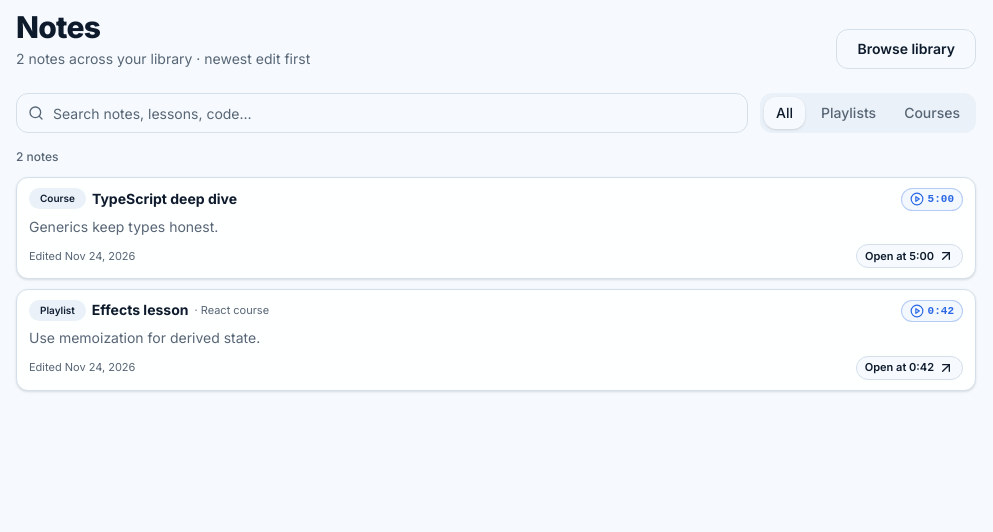
NotesView › filters by lesson type and shows a no-match state
Click the tab "Courses" at (932, 113), box [892,97,972,129]
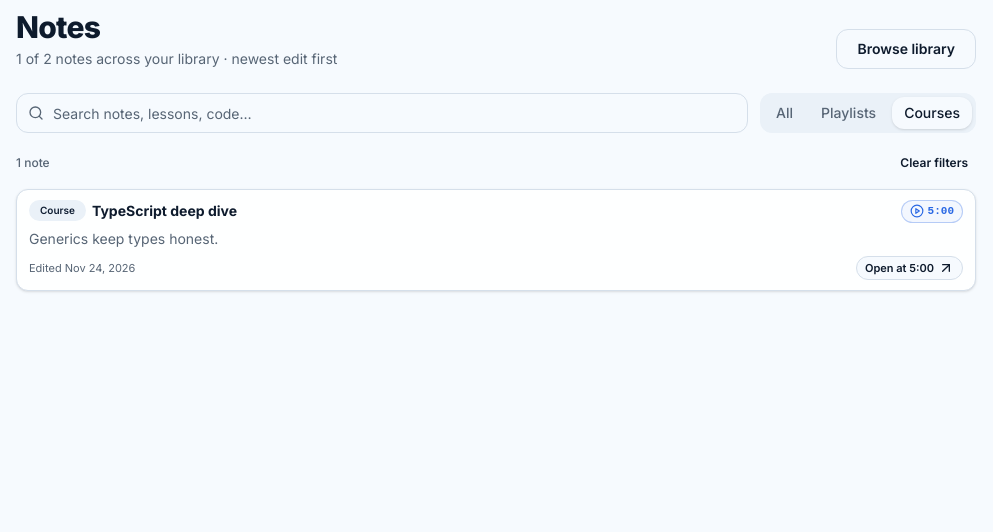
Expected: the text "Generics keep types honest." is shown, [29,230,218,246]
Result: the text "memoization" is gone
Type "memoization" into the field labelled "Search notes" at (382, 113), box [16,93,748,133]
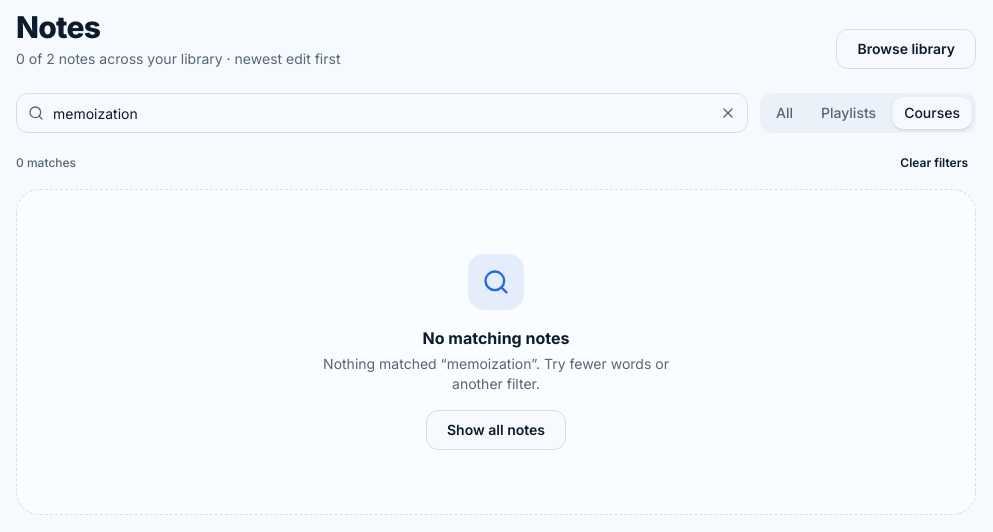
Result: the heading "No matching notes" is shown at [422,328,569,348]
Click the button "Show all notes" at (496, 430), box [426,410,566,450]
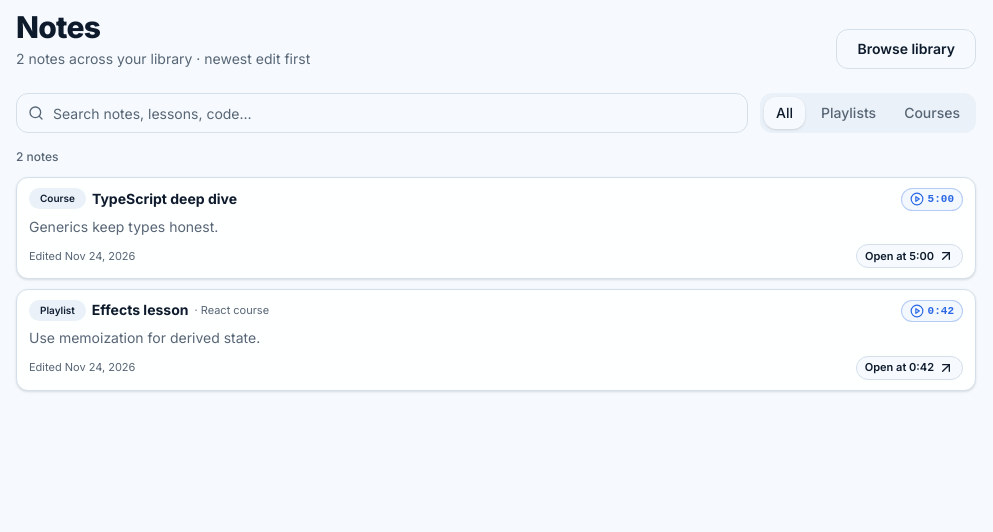
Result: the text "Use memoization for derived state." is shown at [29,329,260,346]
